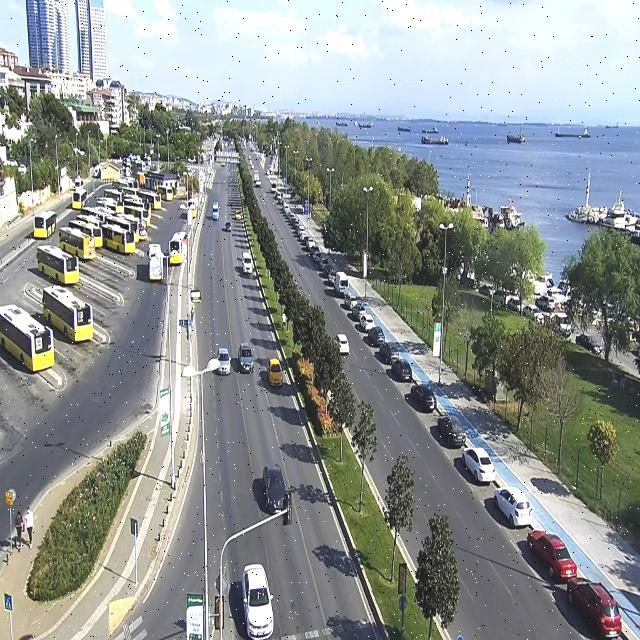car: (238, 558, 276, 640), (262, 461, 288, 515), (267, 353, 283, 389), (218, 349, 231, 377), (240, 346, 252, 373)
